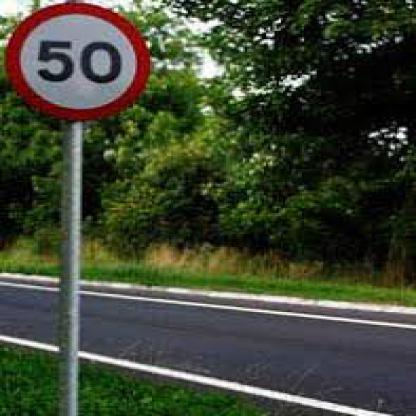Speed Limit 50: (9, 2, 148, 118)
